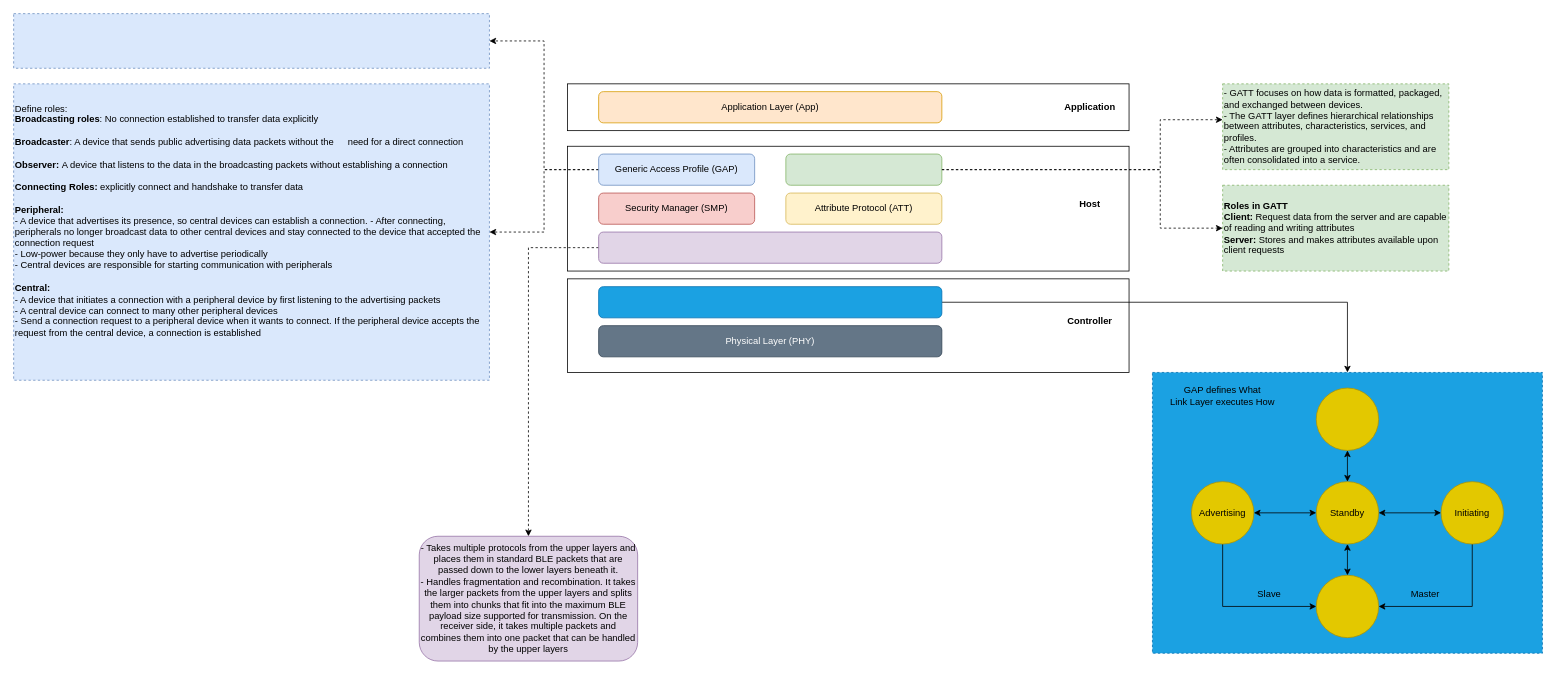
Image size: 1556x675. Some labels were removed from this diagram. The shapes that lost their labels are listed below. From the top down, each one's centre as x and y in pixels, then its label:
At [251,40]: "Define BLE devices can discover each other and establish connections".
At [863,169]: "Generic Attribute Protocol (GATT)".
At [770,247]: "Logical Link Control & Adaptation Protocol (L2CAP)".
At [770,302]: "Link Layer (LL)".
At [1347,418]: "Scanning".
At [1347,606]: "Connection".
